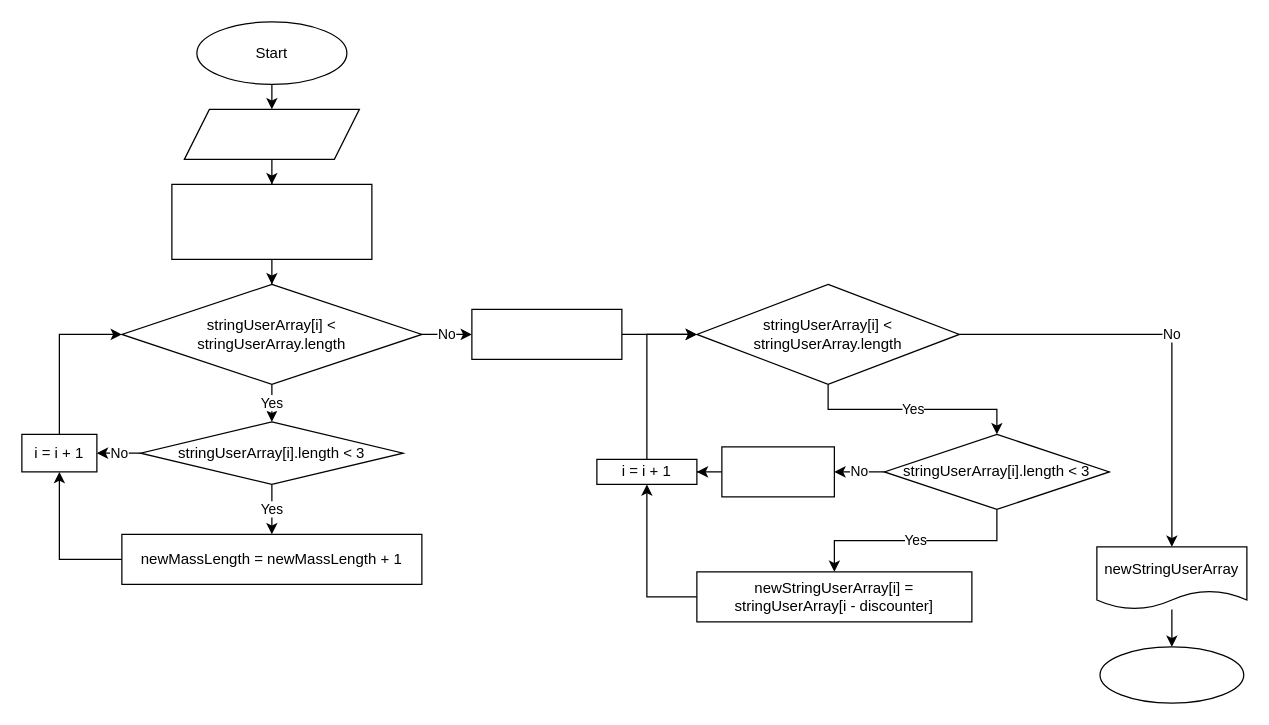
Image size: 1269x725. Some labels were removed from this diagram. The shapes that lost their labels are listed below. From the top down, each one's centre as x and y in pixels, then its label:
At (271,133): "stringUserArray".
At (271,221): "newMassLength = 0 discounter = 0 i = 0".
At (546,333): "newStringUserArray i = 0".
At (777,471): "discounter = discounter +1".
At (1171,674): "End".
